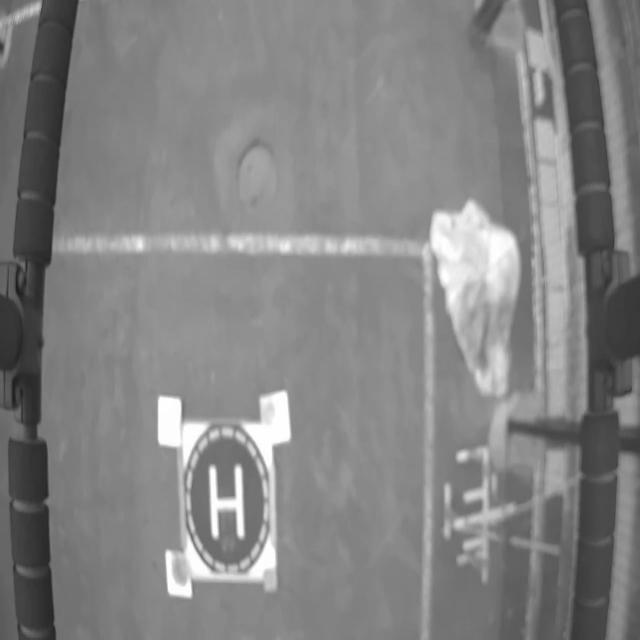Helipad: (208, 464, 245, 541)
